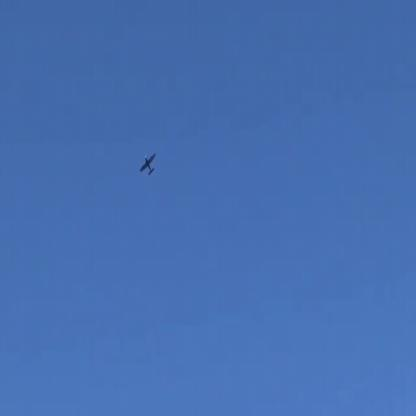CIV_Plane: (136, 148, 164, 178)
